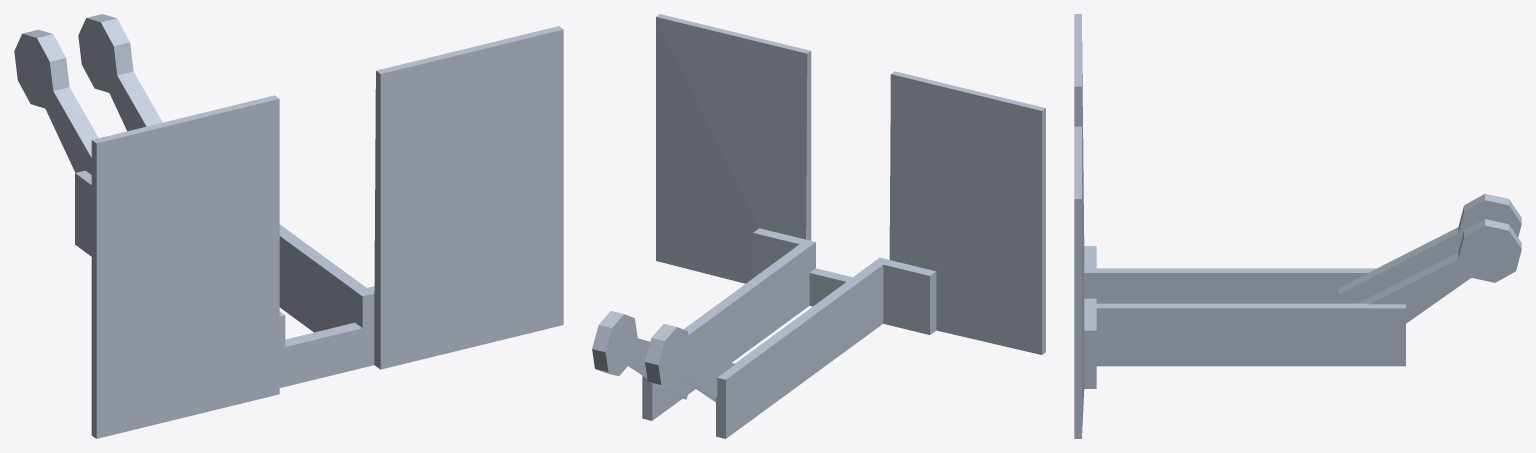
Rendered from oerlikon_20mm_gunholder.fbx.
The picture shows the model from 3 angles, left to right: view 1: azimuth 30°, elevation 25°; view 2: azimuth 150°, elevation 25°; view 3: azimuth 270°, elevation 25°; orthographic projection. The views are drawn at different scales.
Parts seen in each view (by area): view 1: GunHolder; view 2: GunHolder; view 3: GunHolder.
Part boxes in pixels (box(x1,y1,x2,y2)): GunHolder: box(14, 14, 563, 438); GunHolder: box(592, 14, 1045, 438); GunHolder: box(1074, 14, 1521, 438).
Size of the model in its own units: 102 by 61.69 by 104.
